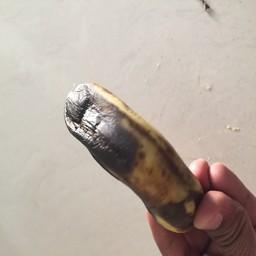Bad_banana: (62, 82, 200, 235)
